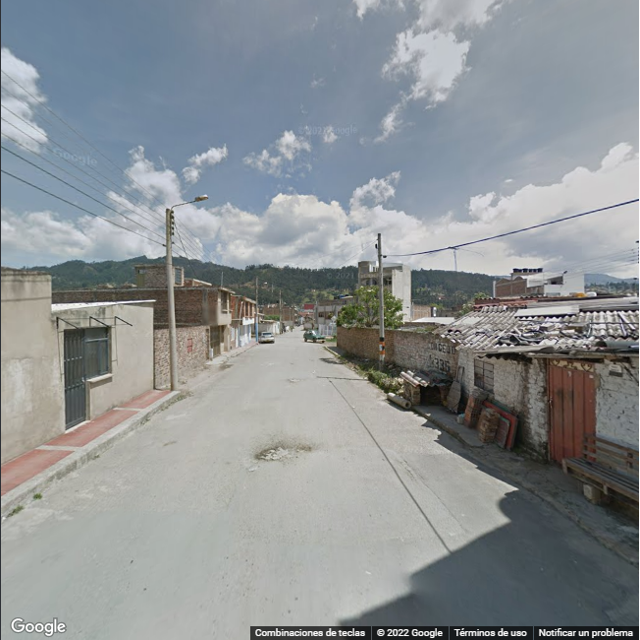D00: (214, 485, 240, 522)
D20: (253, 434, 313, 468)
